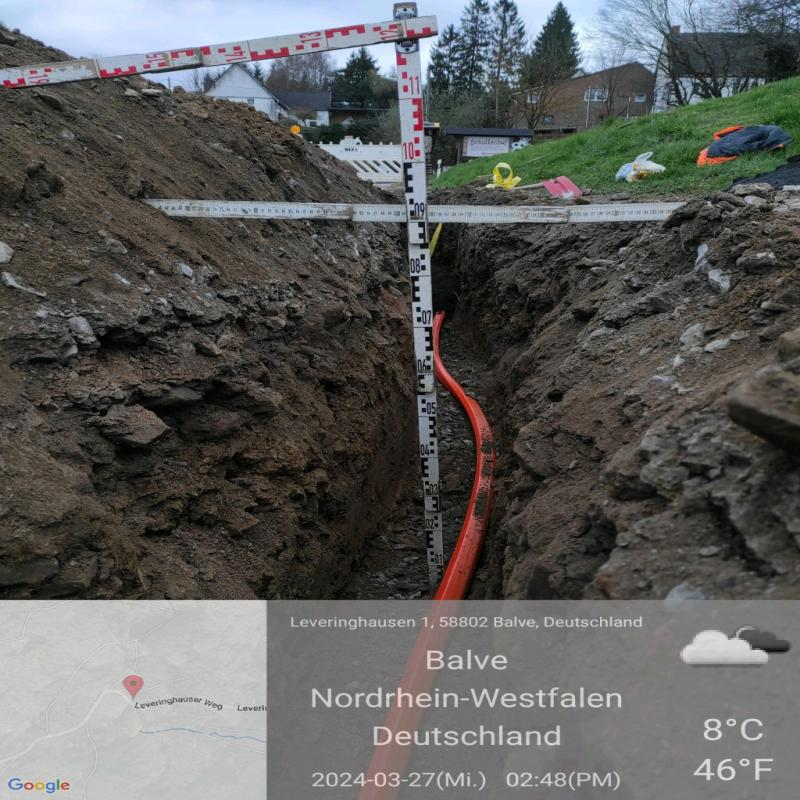Orang-Speednetrohrchen: (433, 311, 493, 601)
